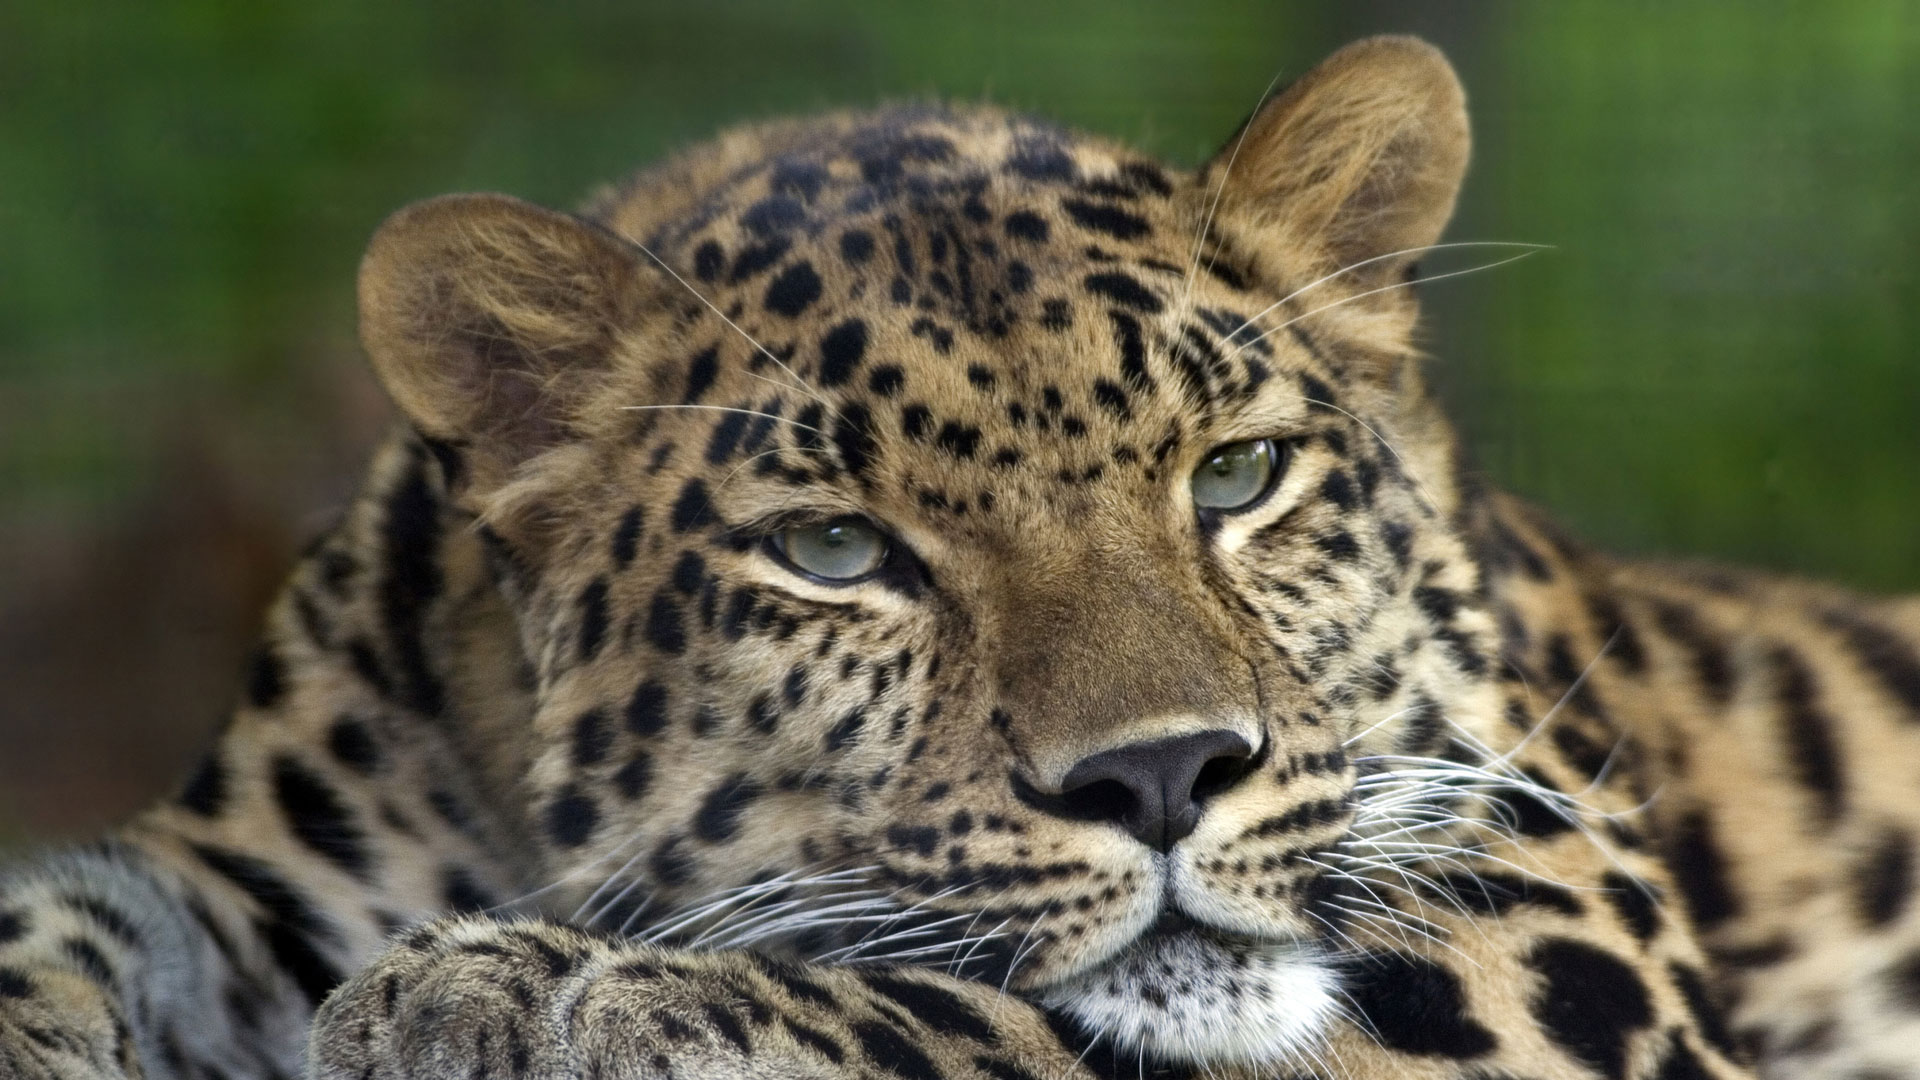amur_leopard: (76, 15, 1869, 1080)
